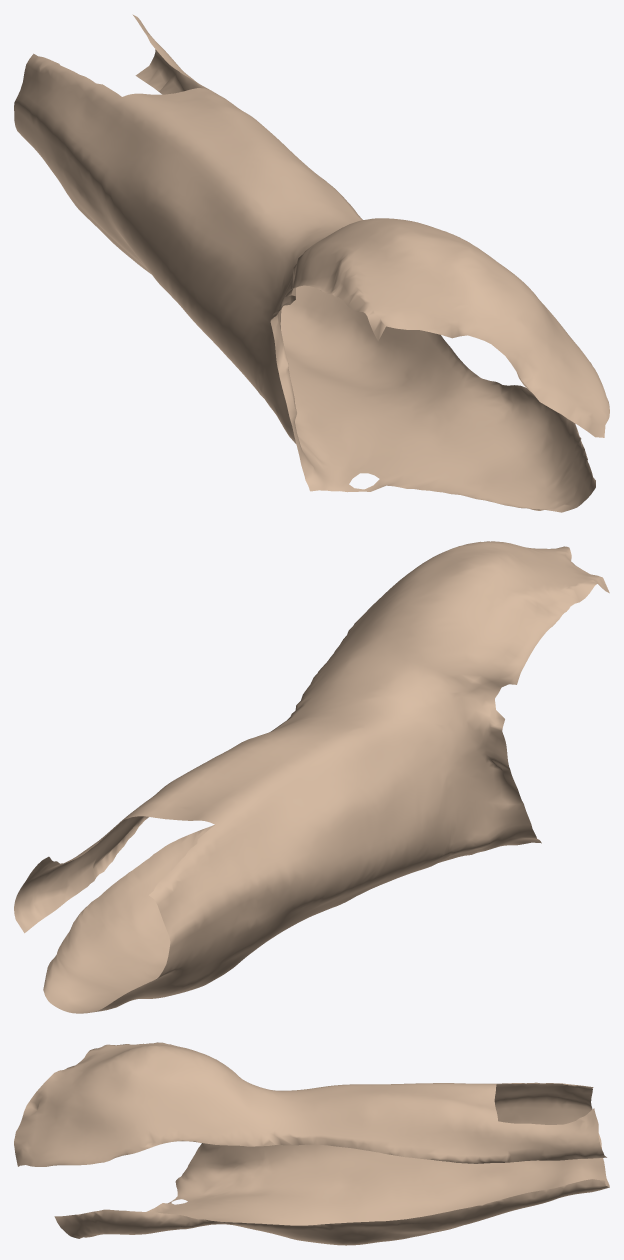
3 renders of one model, top to bottom at view 1: azimuth 30°, elevation 25°; view 2: azimuth 150°, elevation 25°; view 3: azimuth 270°, elevation 25°, orthographic. The views are drawn at different scales.
Parts seen in each view (by area): view 1: 左侧阔筋膜; view 2: 左侧阔筋膜; view 3: 左侧阔筋膜.
Part boxes in pixels (<box>): 左侧阔筋膜: <box>14,14,609,512</box>; 左侧阔筋膜: <box>14,541,609,1013</box>; 左侧阔筋膜: <box>14,1042,609,1245</box>.
Bounding box in the file's own units: 0.2348 × 0.258 × 0.8397.
